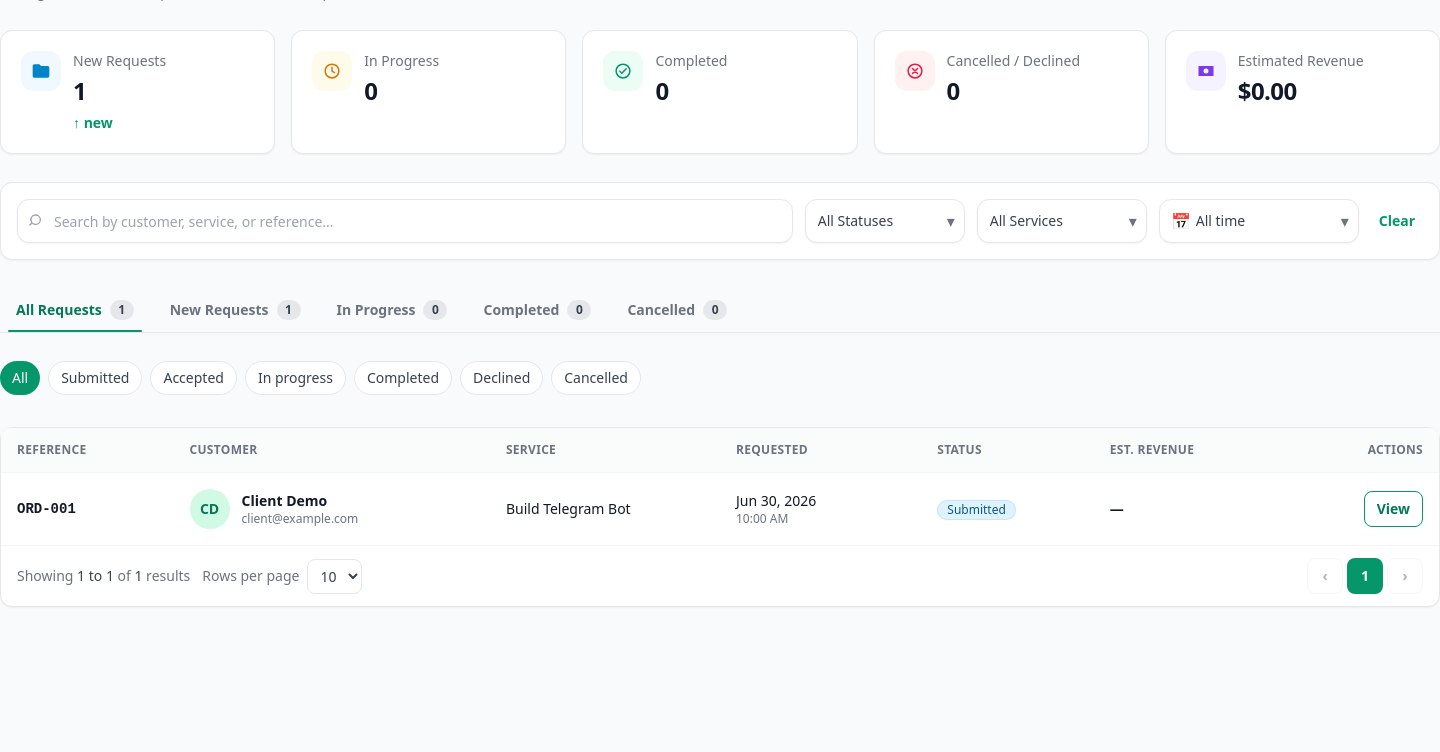
Test: AdminOrdersPage mobile UX and confirms › opens custom confirm dialog for Accept without window.confirm
The width and height of the screenshot is (1440, 752).
Click the button "View" at (1393,509), box [1364,491,1423,527]
(page scrolled)
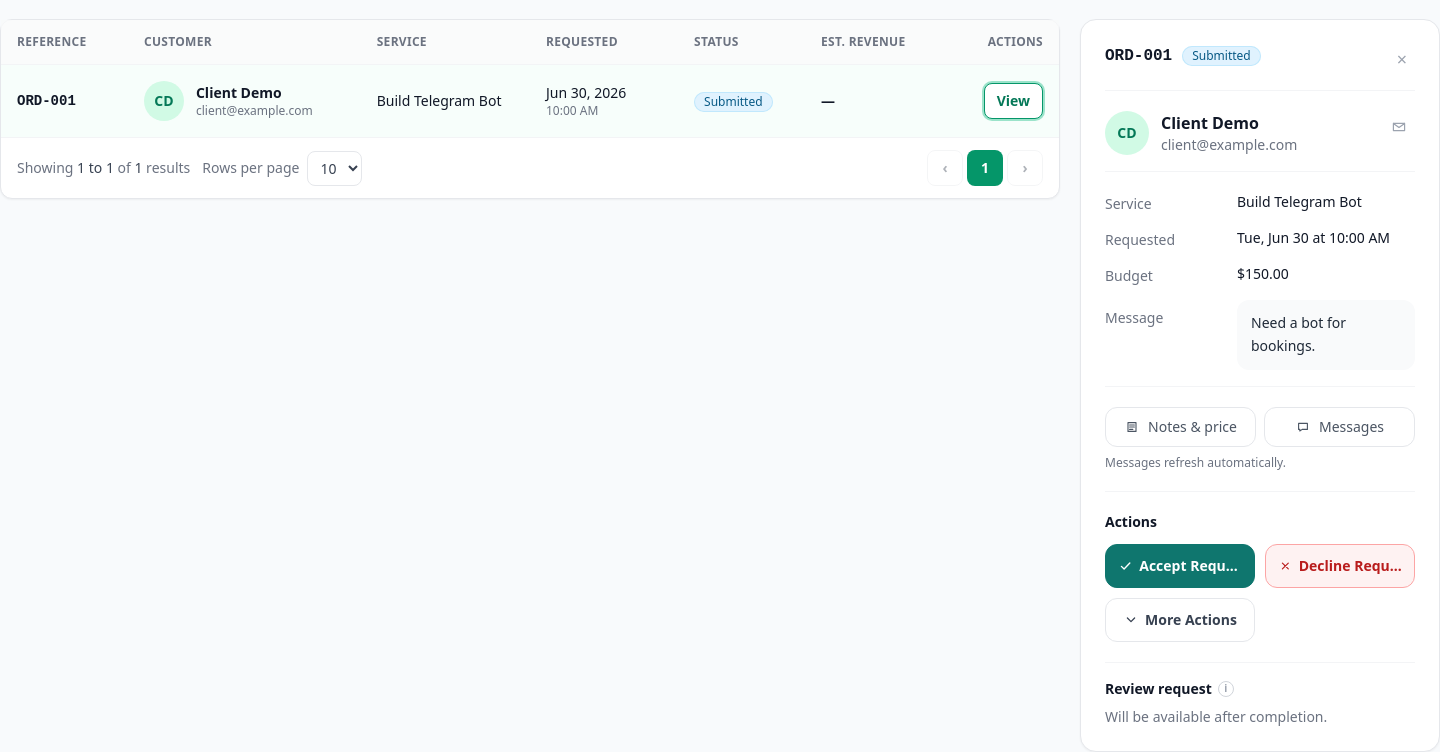
Check: the element with test id "admin-order-detail-panel" is shown, box [1080,19,1439,751]
Click the button with test id "admin-order-action-accept" at (1180,566), box [1105,544,1255,588]
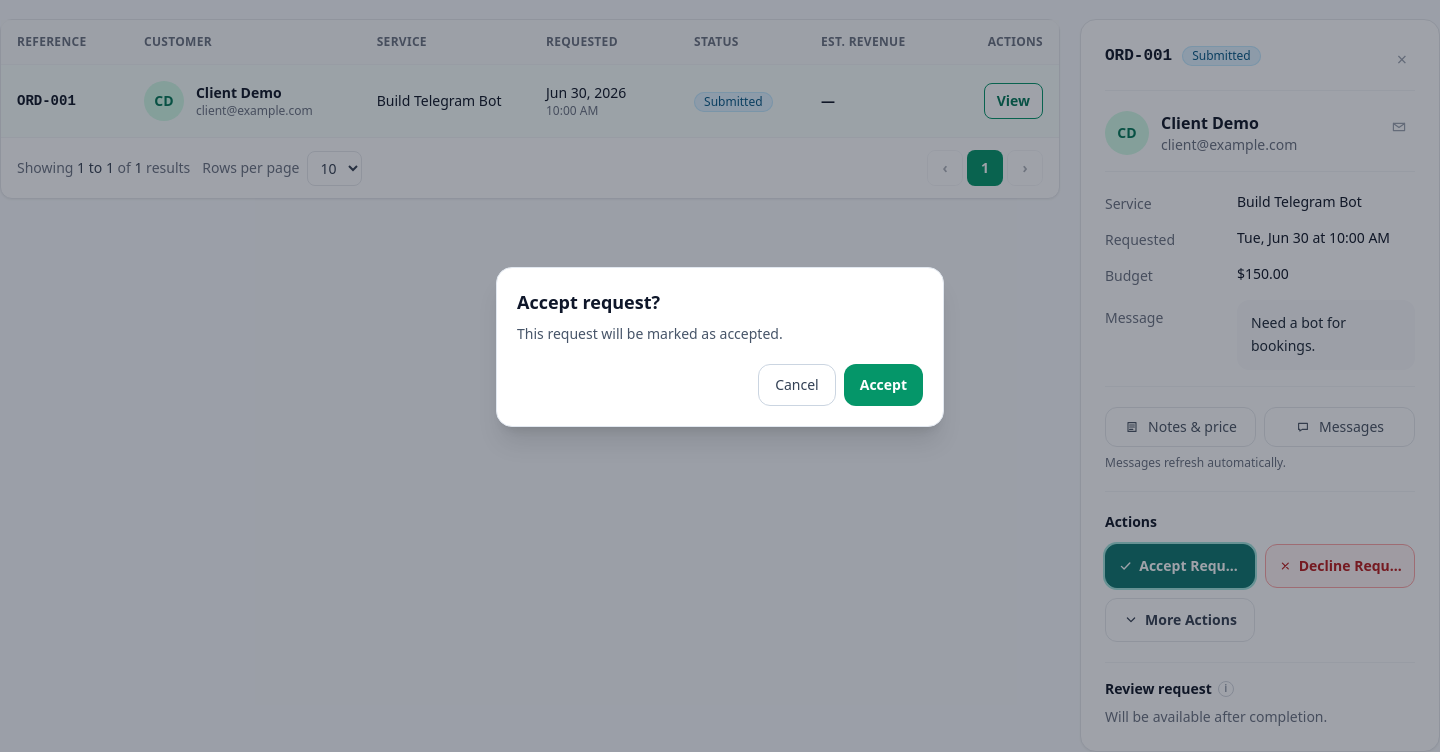
Check: the dialog with test id "admin-confirm-dialog" is shown, box [496,267,944,427]
Check: the heading "Accept request?" is shown, box [517,290,660,314]
Check: the text "This request will be marked as accepted." is shown, box [517,324,783,343]
Click the button with test id "admin-confirm-dialog-cancel" at (797,385), box [758,364,836,406]
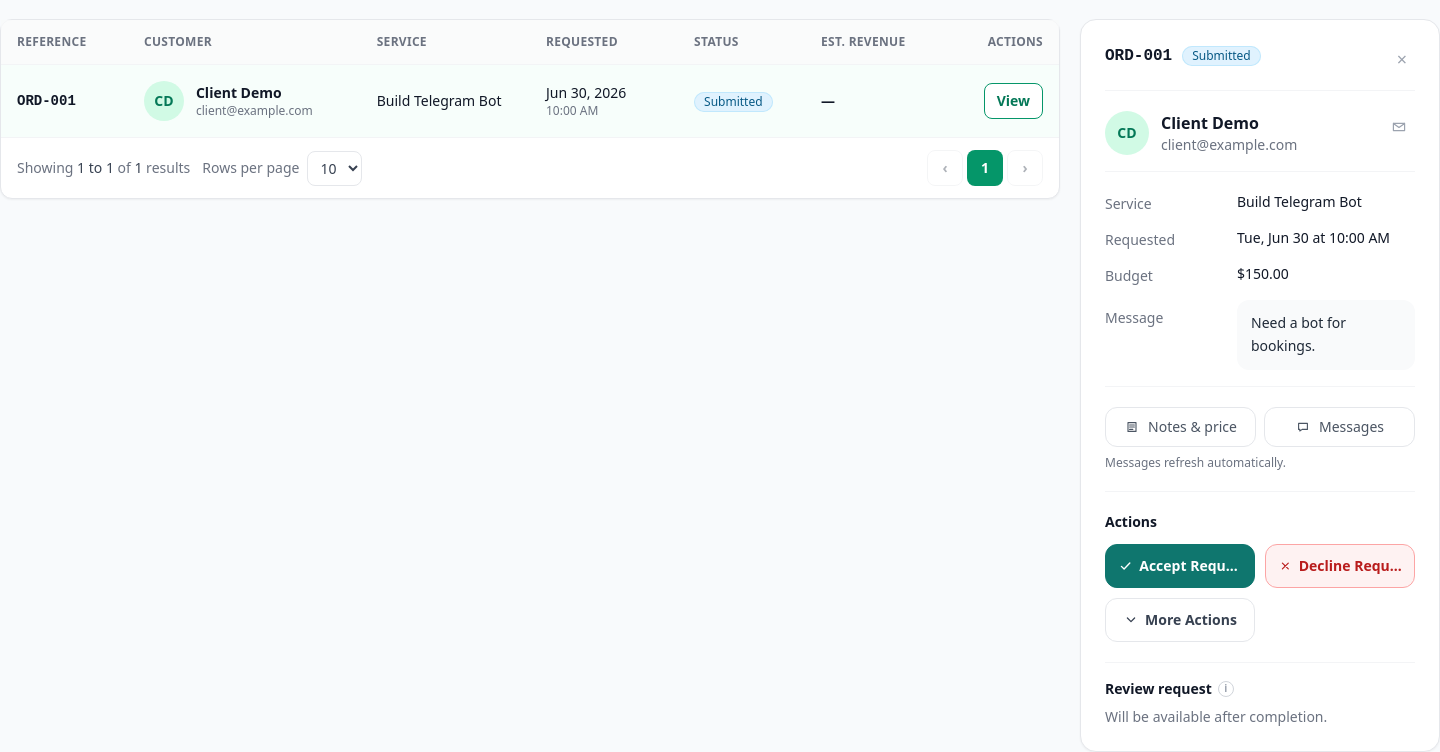
Check: the dialog with test id "admin-confirm-dialog" is gone
